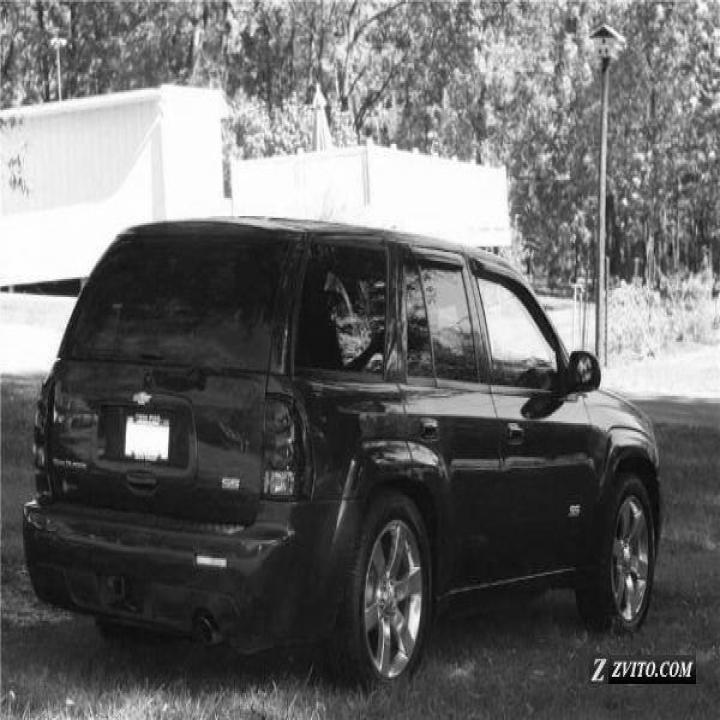car: (22, 212, 662, 695)
plat: (124, 414, 170, 461)
